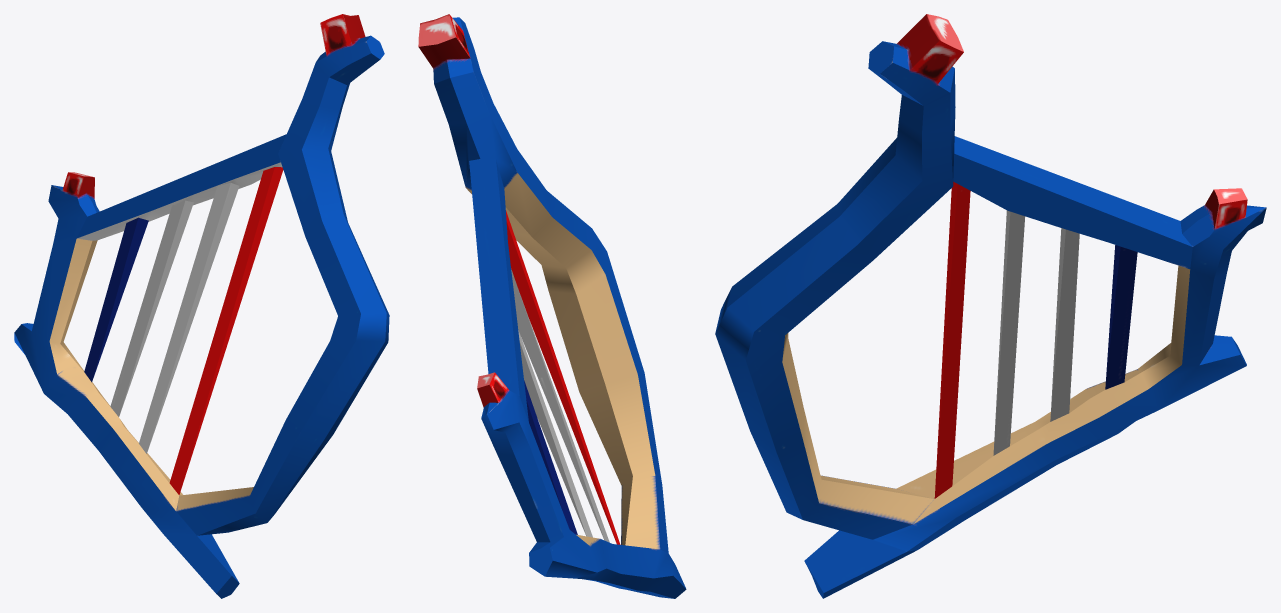
Rendered from Arpa2_000014.obj.
The picture shows the model from 3 angles, left to right: view 1: azimuth 30°, elevation 25°; view 2: azimuth 150°, elevation 25°; view 3: azimuth 270°, elevation 25°; orthographic projection. The views are drawn at different scales.
Visible parts, largest first — view 1: a2_Arpa_1:pCube7; view 2: a2_Arpa_1:pCube7; view 3: a2_Arpa_1:pCube7.
Boxes of the visible parts, x1=… form: a2_Arpa_1:pCube7: x1=14, y1=14, x2=389, y2=598; a2_Arpa_1:pCube7: x1=418, y1=14, x2=686, y2=598; a2_Arpa_1:pCube7: x1=715, y1=14, x2=1266, y2=598.
Bounding box in the file's own units: 4.04 × 8.27 × 6.06.
